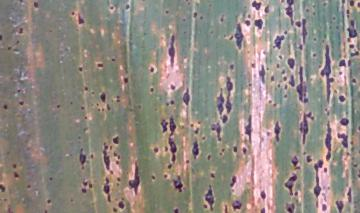tarspot: (317, 43, 337, 109), (295, 109, 316, 143), (296, 64, 311, 105), (126, 161, 143, 195), (312, 157, 324, 200), (323, 117, 334, 162), (166, 30, 178, 69), (224, 74, 235, 116), (233, 18, 245, 55), (243, 112, 256, 142), (282, 173, 299, 195), (169, 173, 186, 194), (166, 137, 179, 163), (204, 183, 216, 211), (346, 17, 360, 40), (101, 141, 112, 170), (76, 147, 89, 171), (215, 87, 225, 118), (336, 131, 351, 151), (256, 62, 268, 87), (210, 120, 224, 141), (284, 1, 296, 24), (102, 176, 113, 201), (272, 120, 283, 143), (158, 114, 169, 136), (180, 86, 192, 106), (191, 136, 201, 160), (271, 33, 285, 49), (300, 19, 308, 47), (284, 54, 297, 71), (251, 16, 265, 31), (344, 185, 354, 206), (333, 197, 346, 213), (288, 154, 302, 168), (168, 112, 176, 136), (230, 198, 243, 212), (96, 88, 108, 103), (336, 90, 347, 106), (284, 200, 297, 213), (163, 97, 177, 109), (347, 75, 360, 87), (76, 12, 87, 26), (230, 141, 240, 156), (258, 188, 268, 203), (248, 1, 263, 11), (146, 172, 158, 184), (111, 133, 121, 147), (219, 201, 230, 213), (319, 202, 331, 213), (11, 169, 22, 181), (337, 57, 347, 70), (229, 176, 238, 190), (288, 73, 295, 91), (339, 116, 350, 127), (15, 25, 26, 36), (122, 1, 133, 12), (302, 153, 314, 163), (81, 84, 93, 94), (204, 152, 215, 162), (77, 103, 88, 113), (53, 102, 64, 112), (24, 181, 34, 192), (161, 170, 172, 180), (162, 6, 172, 17), (79, 186, 91, 195), (17, 98, 26, 110), (117, 198, 125, 211), (109, 53, 117, 66), (147, 65, 157, 75), (9, 162, 19, 172), (227, 62, 237, 72), (95, 61, 105, 71), (147, 85, 157, 95), (106, 2, 116, 12), (168, 83, 177, 94), (280, 83, 291, 92), (248, 59, 257, 70), (269, 72, 276, 86), (241, 146, 249, 158), (15, 85, 23, 97), (218, 14, 226, 26), (165, 162, 174, 172), (280, 73, 289, 83), (80, 113, 90, 122), (281, 91, 290, 101), (121, 75, 129, 86), (32, 1, 40, 12), (114, 158, 122, 169), (183, 156, 191, 167), (1, 181, 8, 193), (79, 179, 91, 186), (45, 197, 54, 206), (111, 150, 120, 159), (219, 145, 228, 154), (193, 126, 201, 136), (347, 1, 357, 9), (258, 205, 268, 213), (47, 174, 55, 184), (244, 18, 251, 29), (152, 144, 159, 155), (171, 206, 182, 213), (1, 102, 9, 111), (77, 65, 86, 73), (192, 11, 200, 20), (104, 104, 112, 113), (266, 98, 275, 106), (274, 61, 282, 70), (209, 170, 216, 180), (296, 19, 302, 29), (323, 166, 329, 176), (115, 176, 122, 184), (1, 31, 5, 44), (311, 51, 316, 60)
